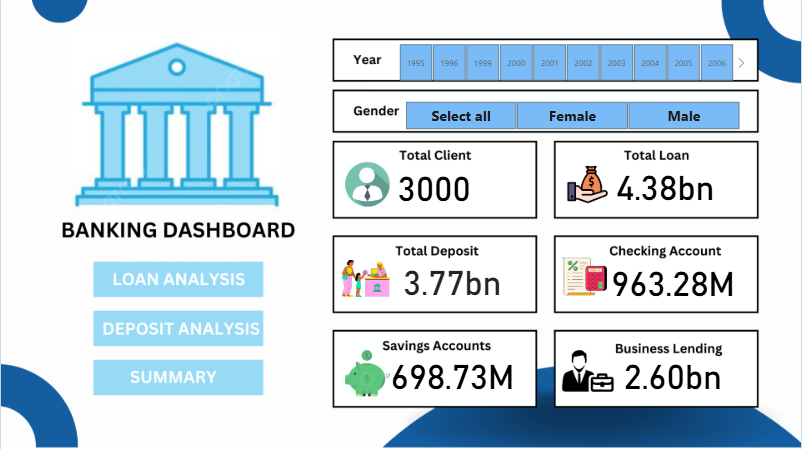

Layout of this report page (visuals, bound fields, positions):
{"tool":"powerbi","page":{"name":"Page 1","canvas":[1280,720],"ordinal":0},"visuals":[{"type":"card","fields":{"Values":["CountNonNull(banking-clients csv.Name)"]},"box":[571,238,242,114],"z":0},{"type":"slicer","fields":{"Values":["banking-clients csv.GenderId"]},"box":[622.9,155.7,582.9,57.1],"z":1000},{"type":"card","fields":{"Values":["Sum(banking-clients csv.Checking Accounts)"]},"box":[954.3,391.4,241.4,111.4],"z":2000},{"type":"card","fields":{"Values":["banking data.Total Deposit"]},"box":[571.4,295.7,300,300],"z":3000},{"type":"slicer","fields":{"Values":["banking-clients csv.joined year"]},"box":[612.5,65,583.5,71.9],"z":4000},{"type":"card","fields":{"Values":["banking data.Total Loan"]},"box":[942.9,238.6,241.4,112.9],"z":5000},{"type":"card","fields":{"Values":["Sum(banking-clients csv.Saving Accounts)"]},"box":[601.4,540,240,112.9],"z":6000},{"type":"card","fields":{"Values":["Sum(banking-clients csv.Business Lending)"]},"box":[954.3,540,241.4,112.9],"z":7000},{"type":"actionButton","box":[152.1,425.8,266.3,49.1],"z":8000},{"type":"actionButton","box":[152.1,503.1,266.3,49.1],"z":9000},{"type":"actionButton","box":[153.4,582.8,266.3,49.1],"z":10000}]}

Visuals, with their boxes in screenshot pixels (x1, y1, x2, y2), scaled from the page's 1280x720 canvas onto the 802x449 screenshot:
card - CountNonNull(banking-clients csv.Name): locate(358, 148, 509, 220)
slicer - banking-clients csv.GenderId: locate(390, 97, 756, 133)
card - Sum(banking-clients csv.Checking Accounts): locate(598, 244, 749, 314)
card - banking data.Total Deposit: locate(358, 184, 546, 371)
slicer - banking-clients csv.joined year: locate(384, 41, 749, 85)
card - banking data.Total Loan: locate(591, 149, 742, 219)
card - Sum(banking-clients csv.Saving Accounts): locate(377, 337, 527, 407)
card - Sum(banking-clients csv.Business Lending): locate(598, 337, 749, 407)
actionButton: locate(95, 266, 262, 296)
actionButton: locate(95, 314, 262, 344)
actionButton: locate(96, 363, 263, 394)
